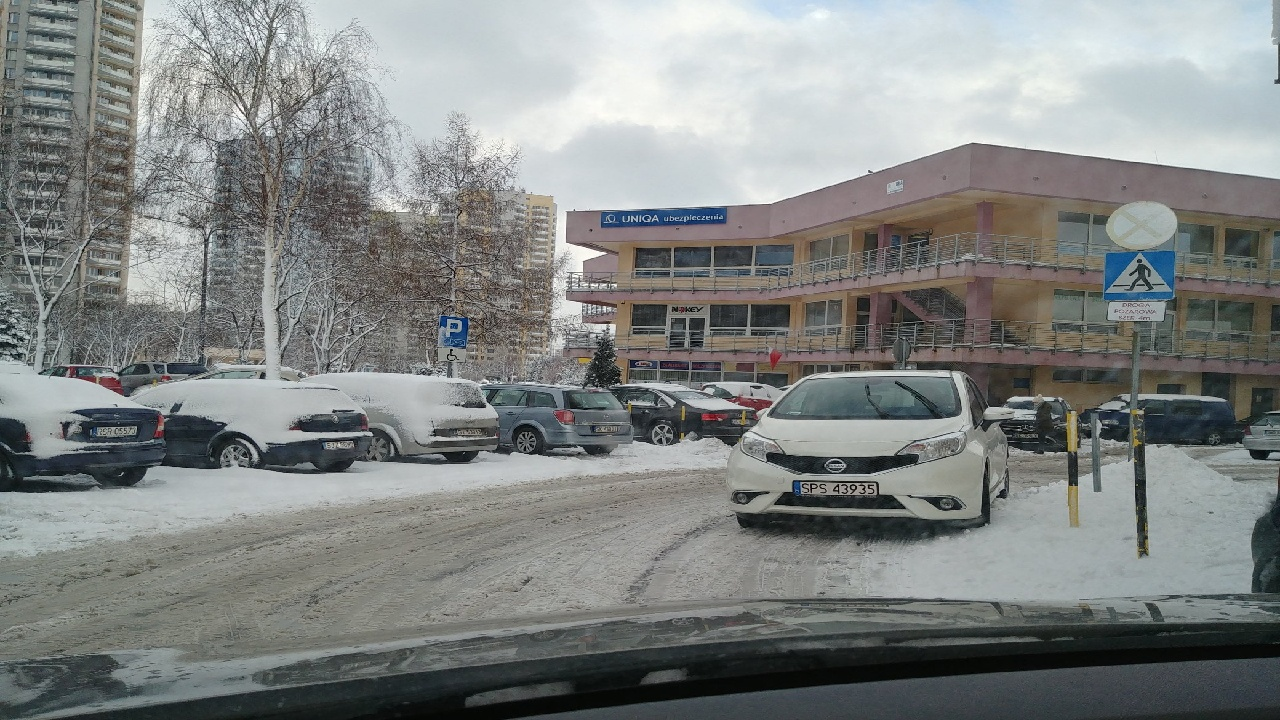D18: (440, 313, 470, 348)
D6: (1100, 245, 1183, 302)
